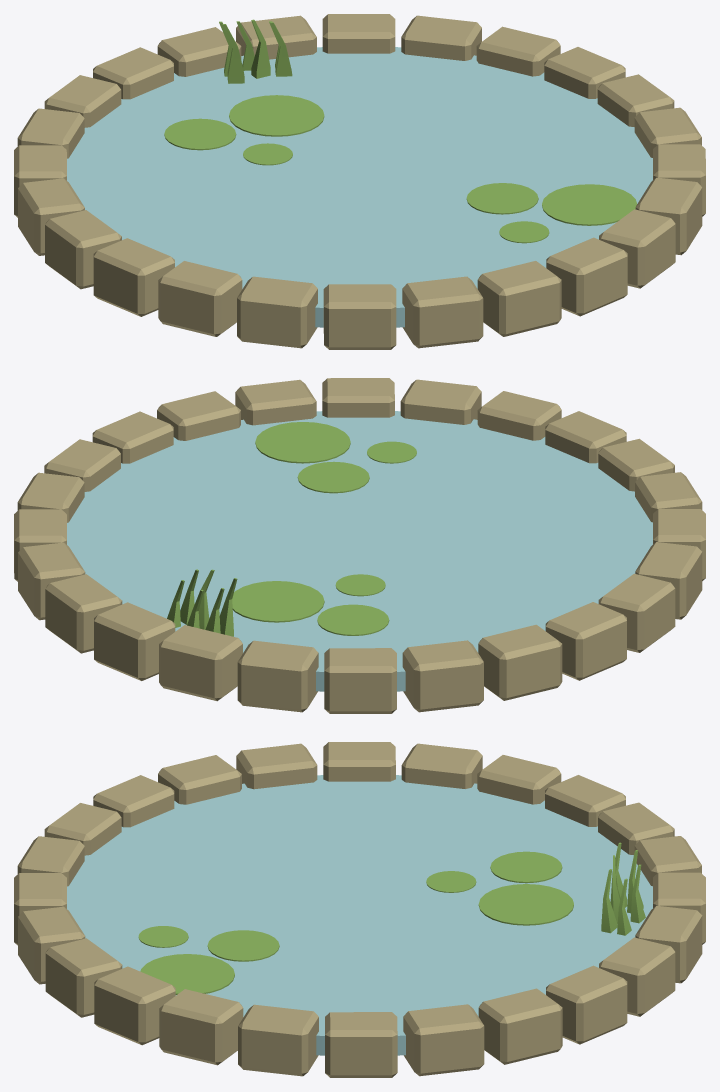
The model's file is Pond.fbx.
3 views of the same model, one above another, from view 1: azimuth 30°, elevation 25°; view 2: azimuth 150°, elevation 25°; view 3: azimuth 270°, elevation 25° (orthographic).
Parts seen in each view (by area): view 1: pDisc1, pCube12, pCube14, pCube15, pCube11, pCube13, pCube34, pCube16, pCube17, pCube33, pDisc2, pDisc6 (+22 smaller); view 2: pDisc1, pCube22, pCube20, pCube19, pCube23, pCube21, pCube24, pCube18, pCube25, pCube17, pDisc6, pDisc2 (+20 smaller); view 3: pDisc1, pCube28, pCube30, pCube31, pCube27, pCube29, pCube32, pCube26, pCube33, pCube25, pDisc2, pCube18 (+20 smaller).
Part boxes in pixels (x1,y1,x2,y2): pDisc1: (67, 47, 652, 327); pCube12: (402, 276, 483, 348); pCube14: (237, 276, 317, 348); pCube15: (158, 261, 242, 336); pCube11: (477, 261, 561, 336); pCube13: (323, 284, 396, 349); pCube34: (546, 237, 627, 316); pCube16: (93, 238, 174, 316); pCube17: (45, 210, 121, 289); pCube33: (599, 209, 675, 288); pDisc2: (229, 95, 324, 136); pDisc6: (542, 184, 636, 225); pDisc1: (67, 411, 652, 691); pCube22: (237, 640, 318, 712); pCube20: (402, 640, 483, 712); pCube19: (478, 624, 562, 700); pCube23: (159, 625, 242, 701); pCube21: (324, 648, 396, 713); pCube24: (94, 602, 175, 680); pCube18: (545, 602, 626, 680); pCube25: (45, 574, 122, 653); pCube17: (598, 573, 675, 652); pDisc6: (255, 422, 350, 463); pDisc2: (232, 581, 324, 622); pDisc1: (67, 775, 652, 1055); pCube28: (403, 1004, 484, 1076); pCube30: (238, 1004, 318, 1076); pCube31: (159, 989, 243, 1065); pCube27: (478, 988, 562, 1064); pCube29: (325, 1012, 397, 1077); pCube32: (94, 966, 175, 1045); pCube26: (546, 965, 627, 1044); pCube33: (45, 938, 122, 1017); pCube25: (599, 937, 675, 1016); pDisc2: (478, 884, 573, 925); pCube18: (401, 743, 482, 788).
Size of the model in its own units: 6.09 by 0.8526 by 6.09.
